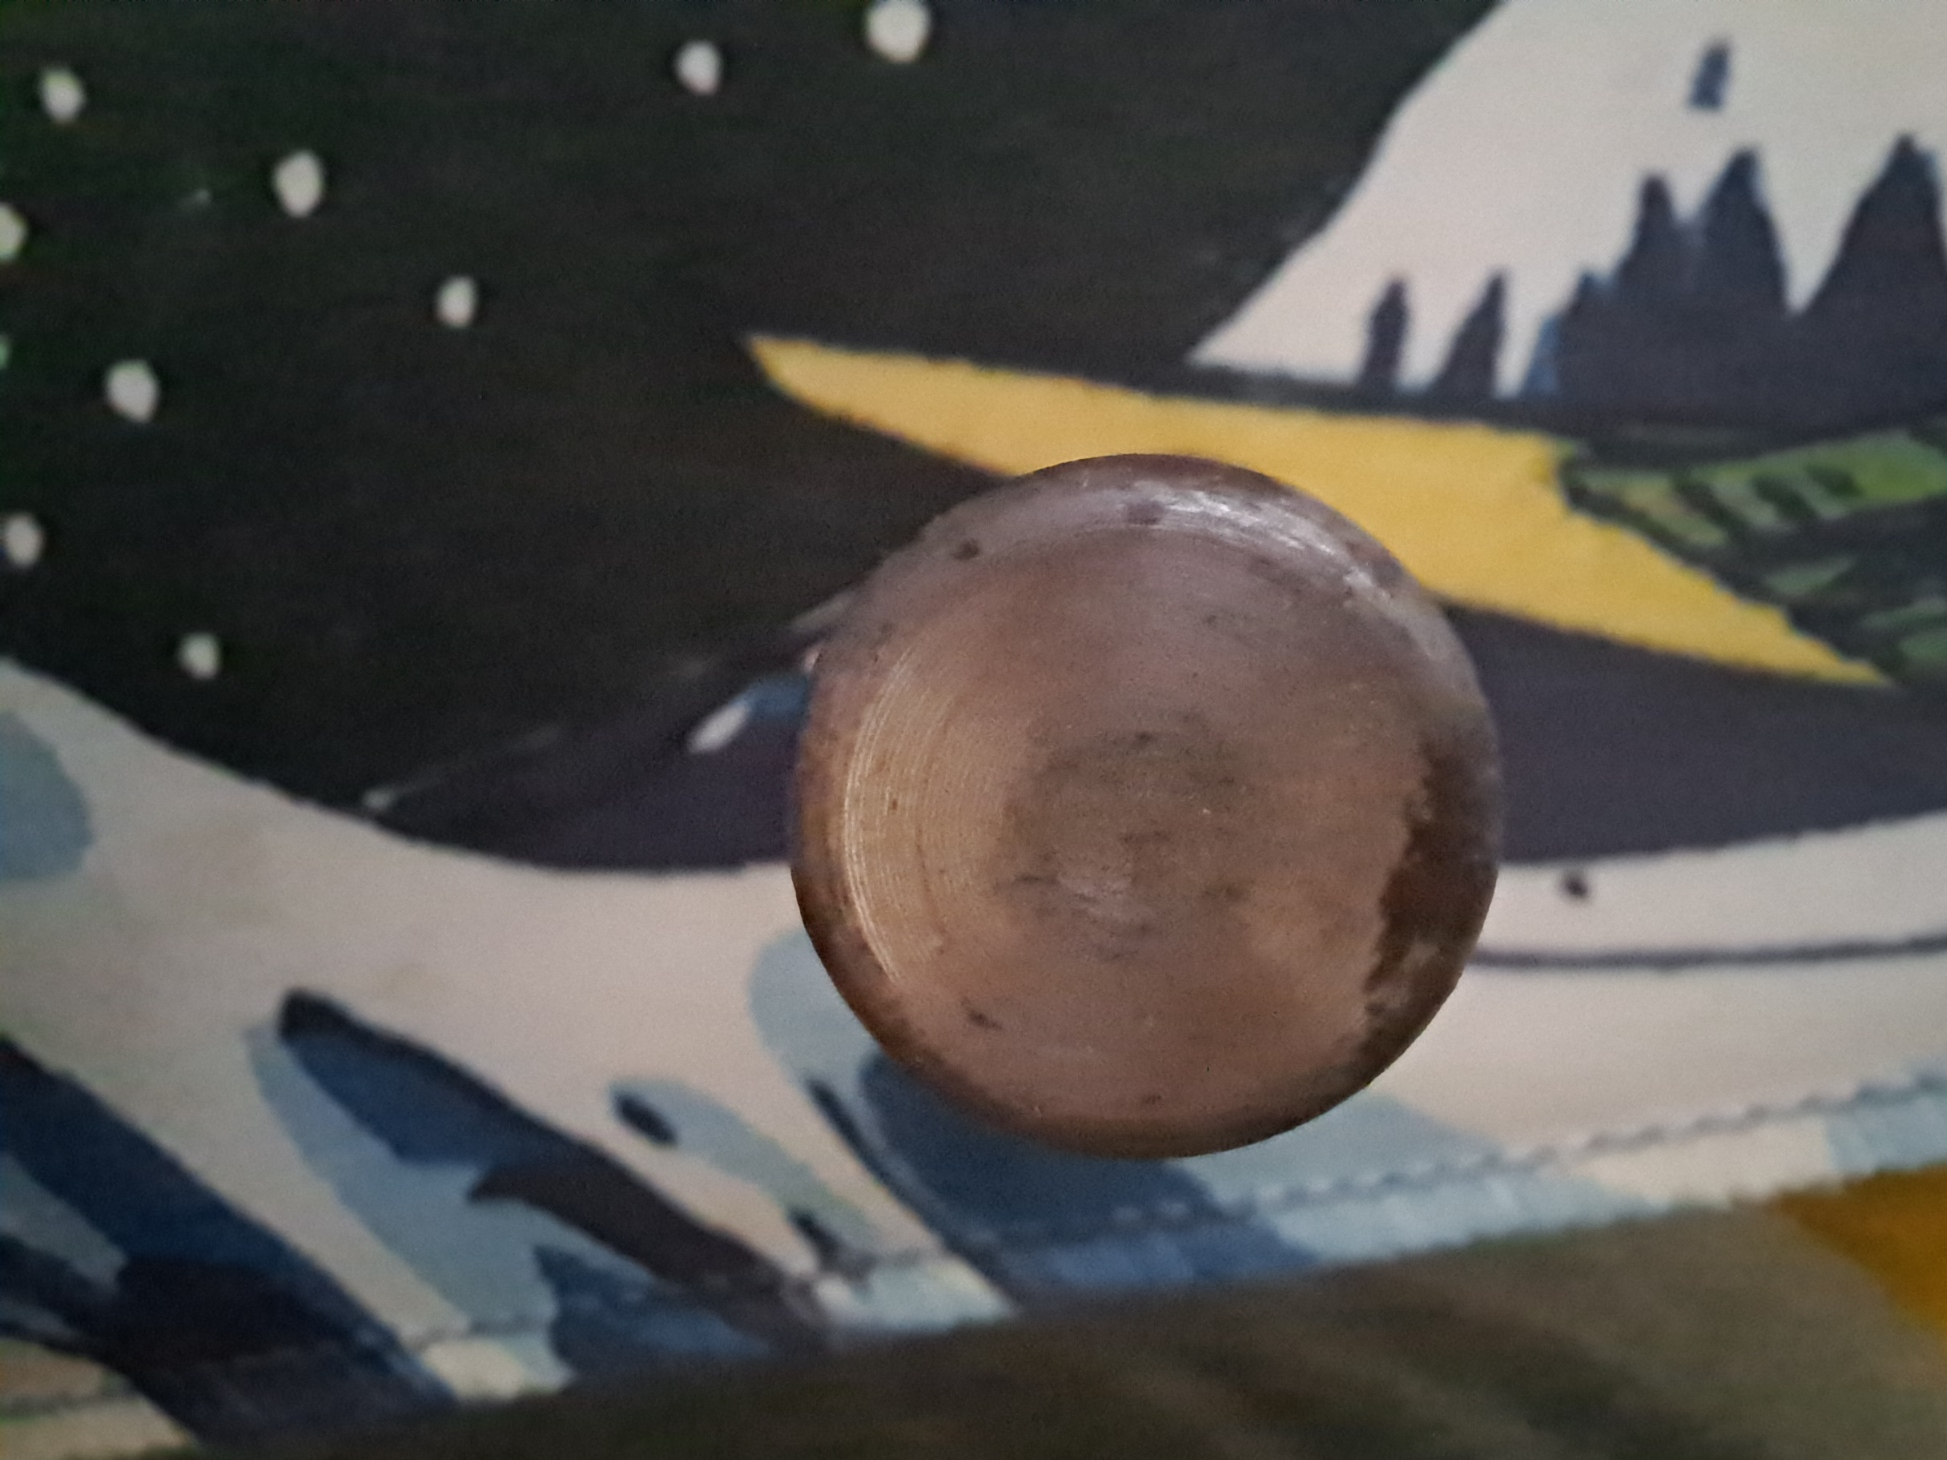плансон: (783, 454, 1507, 1162)
